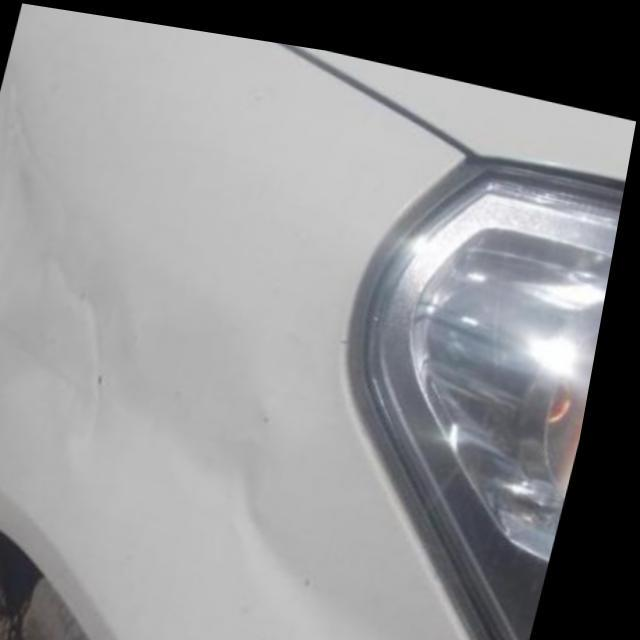dent: (0, 85, 285, 540)
